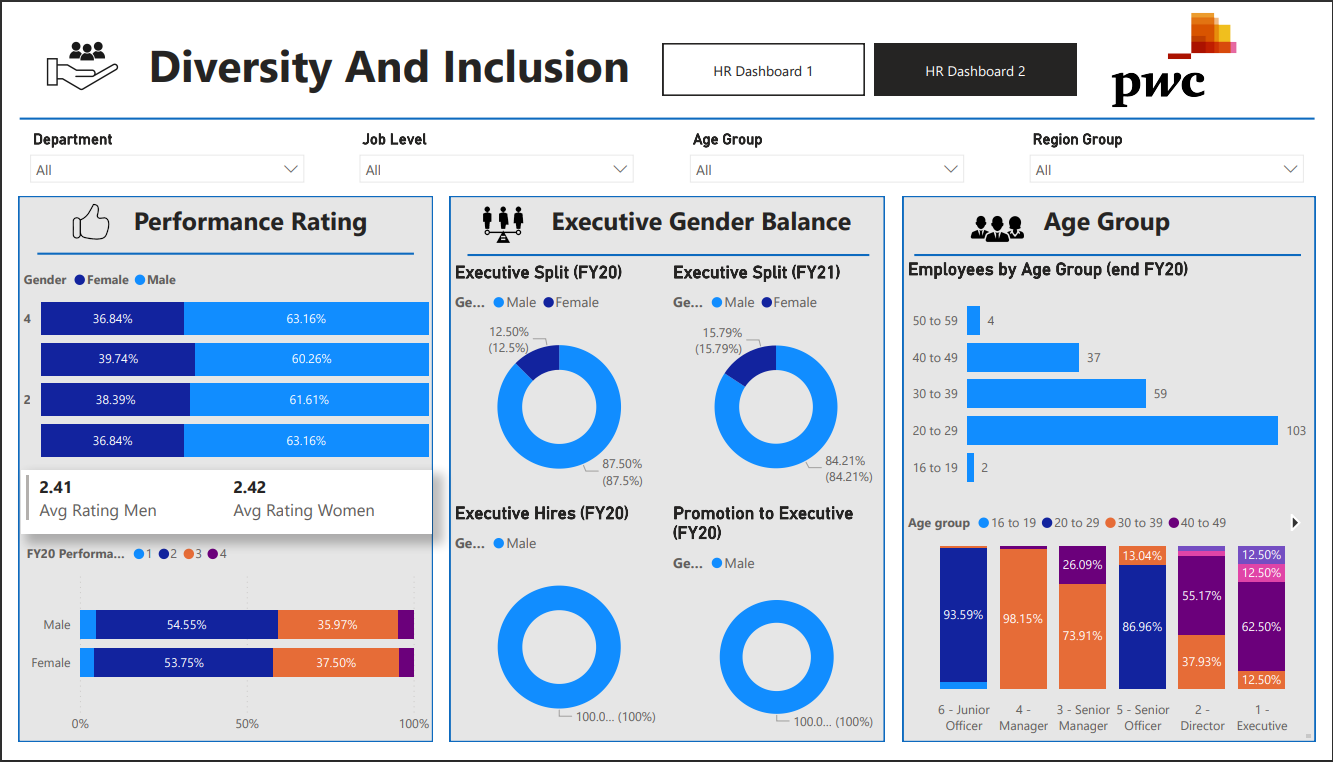

This screenshot's page, from the dashboard's own definition file:
{"tool":"powerbi","page":{"name":"HR Dashboard 2","canvas":[1280,720],"ordinal":1},"visuals":[{"type":"textbox","box":[135.6,21.4,503.7,79.9],"z":0},{"type":"shape","box":[16.9,101.3,1246.2,12.7],"z":1000},{"type":"image","box":[18.6,5.7,117,101.3],"z":2000},{"type":"image","box":[1039.5,0,177.3,101.8],"z":3000},{"type":"slicer","fields":{"Values":["Pharma Group AG.Department @01.07.2020"]},"box":[17.1,114.2,284,62.8],"z":4000},{"type":"slicer","fields":{"Values":["Pharma Group AG.Region group: nationality 1"]},"box":[978.9,114.2,284,62.8],"z":5000},{"type":"slicer","fields":{"Values":["Pharma Group AG.Age group"]},"box":[652.1,114.2,284,62.8],"z":6000},{"type":"slicer","fields":{"Values":["Pharma Group AG.Job Level after FY21 promotions"]},"box":[333.9,114.2,284,62.8],"z":7000},{"type":"shape","box":[16.1,182.3,398.7,525.6],"z":8000},{"type":"shape","box":[430.8,182.3,418.3,525.6],"z":9000},{"type":"shape","box":[867,182.3,396.9,525.6],"z":10000},{"type":"textbox","box":[115.6,184.1,246.9,47.1],"z":11000},{"type":"shape","box":[34.2,231.2,362.5,12.8],"z":12000},{"type":"textbox","box":[923.3,184.1,281.1,48.5],"z":14000},{"type":"shape","box":[448.1,232.6,386.7,11.4],"z":15000},{"type":"shape","box":[877.6,232.6,372.4,11.4],"z":16000},{"type":"textbox","box":[512.3,184.1,322.5,47.1],"z":17000},{"type":"hundredPercentStackedBarChart","title":"Gender","fields":{"Series":["Pharma Group AG.Gender"],"Category":["Pharma Group AG.FY20 Performance Rating"],"Y":["CountNonNull(Pharma Group AG.Employee ID)"]},"box":[16.4,242.9,399.4,203.2],"z":18000},{"type":"hundredPercentStackedBarChart","fields":{"Category":["Pharma Group AG.Gender"],"Y":["CountNonNull(Pharma Group AG.Employee ID)"],"Series":["Pharma Group AG.FY20 Performance Rating"]},"box":[18.7,506.9,397.1,200.9],"z":19000},{"type":"textbox","box":[1249.6,695.4,14.3,12.5],"z":20000},{"type":"barChart","title":"Employees by Age Group (end  FY20)","fields":{"Category":["Pharma Group AG.Age group"],"Y":["CountNonNull(Pharma Group AG.Employee ID)"]},"box":[866.7,241.8,395.3,235],"z":21000},{"type":"hundredPercentStackedColumnChart","fields":{"Category":["Pharma Group AG.Job Level after FY21 promotions"],"Y":["CountNonNull(Pharma Group AG.Employee ID)"],"Series":["Pharma Group AG.Age group"]},"box":[867,477.3,396.9,230.6],"z":22000},{"type":"multiRowCard","fields":{"Values":["Pharma Group AG.Avg Rating Men","Pharma Group AG.Avg Rating Women"]},"box":[19,445.6,395.3,61.1],"z":23000},{"type":"donutChart","title":"Executive Split (FY20)","fields":{"Y":["CountNonNull(Pharma Group AG.Employee ID)"],"Category":["Pharma Group AG.Gender"]},"box":[430.6,244.5,210.6,232.3],"z":24000},{"type":"donutChart","title":"Executive Split (FY21)","fields":{"Y":["CountNonNull(Pharma Group AG.Employee ID)"],"Category":["Pharma Group AG.Gender"]},"box":[641.2,244.5,207.8,232.3],"z":25000},{"type":"donutChart","title":"Executive Hires (FY20)","fields":{"Y":["CountNonNull(Pharma Group AG.Employee ID)"],"Category":["Pharma Group AG.Gender"]},"box":[430.6,476.8,210.6,230.9],"z":26000},{"type":"donutChart","title":"Promotion to Executive (FY20)","fields":{"Y":["CountNonNull(Pharma Group AG.Employee ID)"],"Category":["Pharma Group AG.Gender"]},"box":[641.2,476.8,209.2,230.9],"z":27000},{"type":"image","box":[55.7,176.9,59.9,61.4],"z":27001},{"type":"image","box":[448.1,169.8,71.3,77.1],"z":27002},{"type":"image","box":[923.3,176.9,71.3,69.9],"z":27003},{"type":"pageNavigator","box":[635.8,35.3,399.4,50.3],"z":27004}]}

Visuals, with their boxes in screenshot pixels (x1, y1, x2, y2), scaled from the page's 1280x720 canvas onto the 1333x762 screenshot:
textbox: rect(141, 23, 666, 107)
shape: rect(18, 107, 1315, 121)
image: rect(19, 6, 141, 113)
image: rect(1083, 0, 1267, 108)
slicer - Pharma Group AG.Department @01.07.2020: rect(18, 121, 314, 187)
slicer - Pharma Group AG.Region group: nationality 1: rect(1019, 121, 1315, 187)
slicer - Pharma Group AG.Age group: rect(679, 121, 975, 187)
slicer - Pharma Group AG.Job Level after FY21 promotions: rect(348, 121, 643, 187)
shape: rect(17, 193, 432, 749)
shape: rect(449, 193, 884, 749)
shape: rect(903, 193, 1316, 749)
textbox: rect(120, 195, 378, 245)
shape: rect(36, 245, 413, 258)
textbox: rect(962, 195, 1254, 246)
shape: rect(467, 246, 869, 258)
shape: rect(914, 246, 1302, 258)
textbox: rect(534, 195, 869, 245)
"Gender" hundredPercentStackedBarChart: rect(17, 257, 433, 472)
hundredPercentStackedBarChart - Pharma Group AG.Gender x CountNonNull(Pharma Group AG.Employee ID): rect(19, 536, 433, 749)
textbox: rect(1301, 736, 1316, 749)
"Employees by Age Group (end  FY20)" barChart: rect(903, 256, 1314, 505)
hundredPercentStackedColumnChart - Pharma Group AG.Job Level after FY21 promotions x CountNonNull(Pharma Group AG.Employee ID): rect(903, 505, 1316, 749)
multiRowCard - Pharma Group AG.Avg Rating Men x Pharma Group AG.Avg Rating Women: rect(20, 472, 431, 536)
"Executive Split (FY20)" donutChart: rect(448, 259, 668, 505)
"Executive Split (FY21)" donutChart: rect(668, 259, 884, 505)
"Executive Hires (FY20)" donutChart: rect(448, 505, 668, 749)
"Promotion to Executive (FY20)" donutChart: rect(668, 505, 886, 749)
image: rect(58, 187, 120, 252)
image: rect(467, 180, 541, 261)
image: rect(962, 187, 1036, 261)
pageNavigator: rect(662, 37, 1078, 91)
